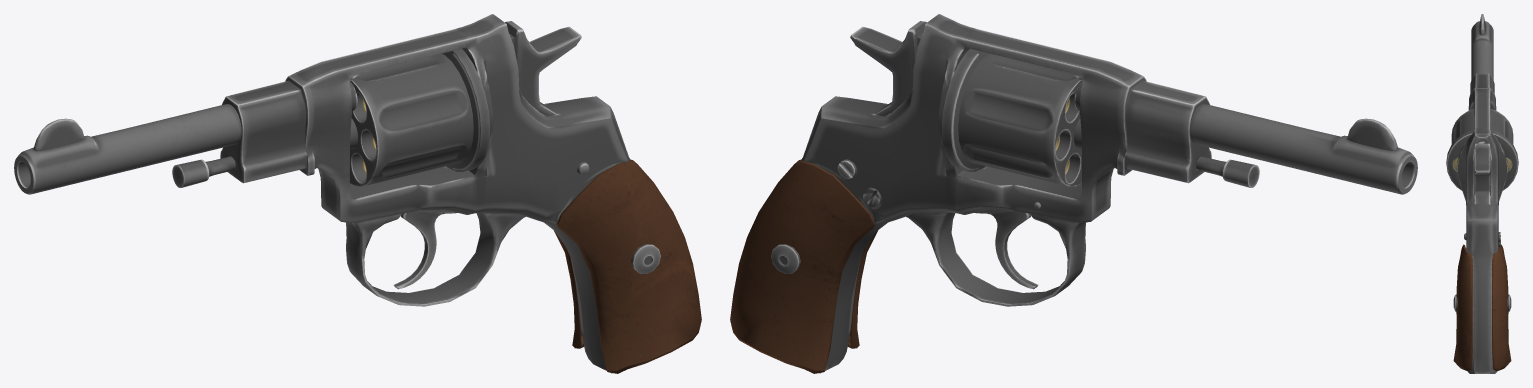
The model's file is gun.dae.
The picture shows the model from 3 angles, left to right: view 1: azimuth 30°, elevation 25°; view 2: azimuth 150°, elevation 25°; view 3: azimuth 270°, elevation 25°; orthographic projection. The views are drawn at different scales.
Parts seen in each view (by area): view 1: Nagan_Body, Nagan_Mag, Nahan_Trigger, Nagan_Trigger.002, Nagan_Slide; view 2: Nagan_Body, Nagan_Mag, Nahan_Trigger, Nagan_Trigger.002, Nagan_Slide; view 3: Nagan_Body, Nagan_Mag, Nahan_Trigger.
Part boxes in pixels (<box>): Nagan_Body: <box>14,14,701,373</box>; Nagan_Mag: <box>350,48,489,186</box>; Nahan_Trigger: <box>505,21,581,116</box>; Nagan_Trigger.002: <box>393,210,456,289</box>; Nagan_Slide: <box>172,156,235,187</box>; Nagan_Body: <box>730,14,1417,373</box>; Nagan_Mag: <box>942,48,1081,186</box>; Nahan_Trigger: <box>850,21,926,116</box>; Nagan_Trigger.002: <box>975,210,1038,289</box>; Nagan_Slide: <box>1196,156,1259,187</box>; Nagan_Body: <box>1453,14,1511,373</box>; Nagan_Mag: <box>1446,109,1518,190</box>; Nahan_Trigger: <box>1474,143,1490,203</box>.
Size of the model in its own units: 2.43 by 0.4227 by 1.31.
